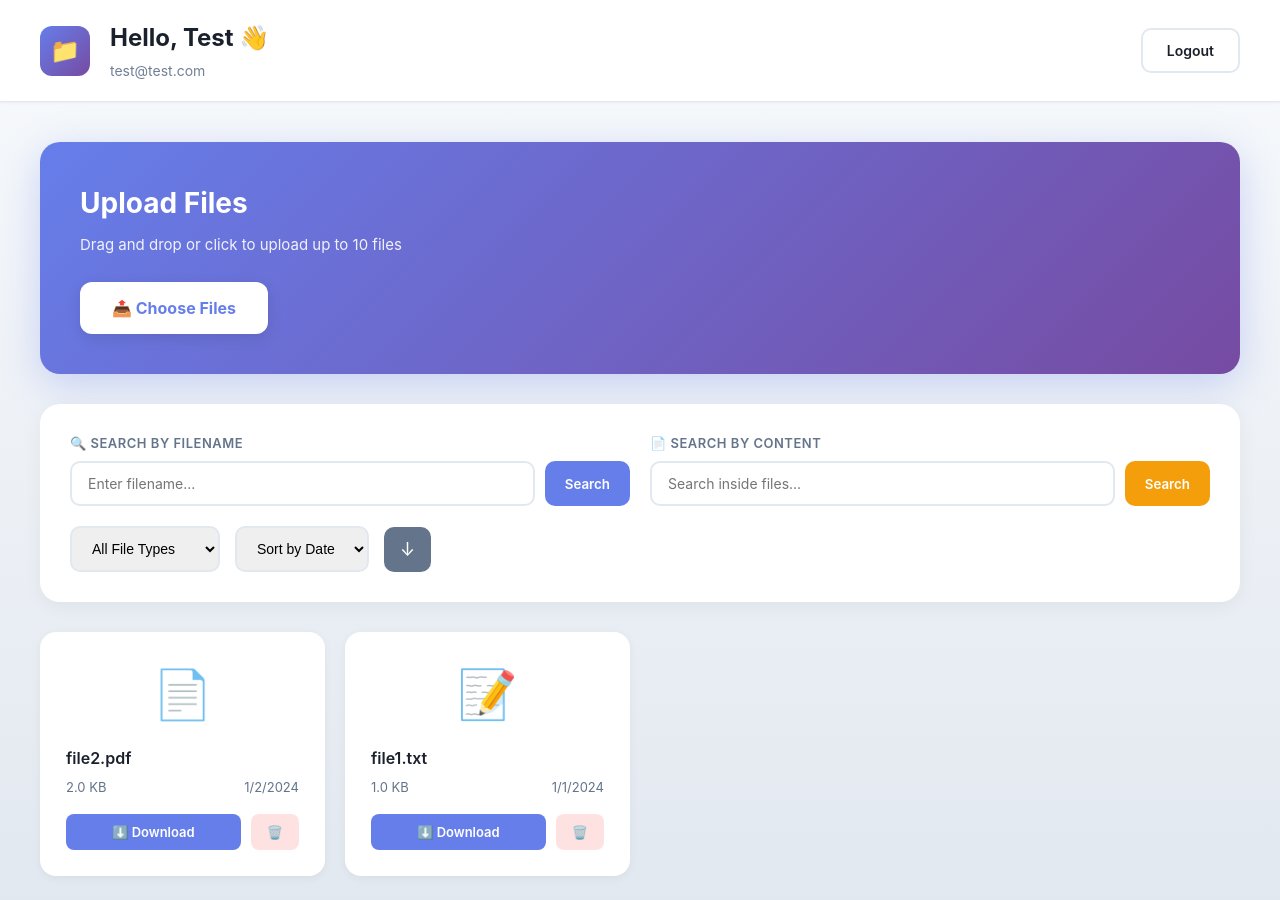
Scenario: Dashboard › File Operations › deletes file after confirmation
Expected: the heading "file1.txt" is shown, [371,748,427,768]
Step 1. Click the button "🗑️" below "2.0" → (275, 832), box [251,814,299,850]
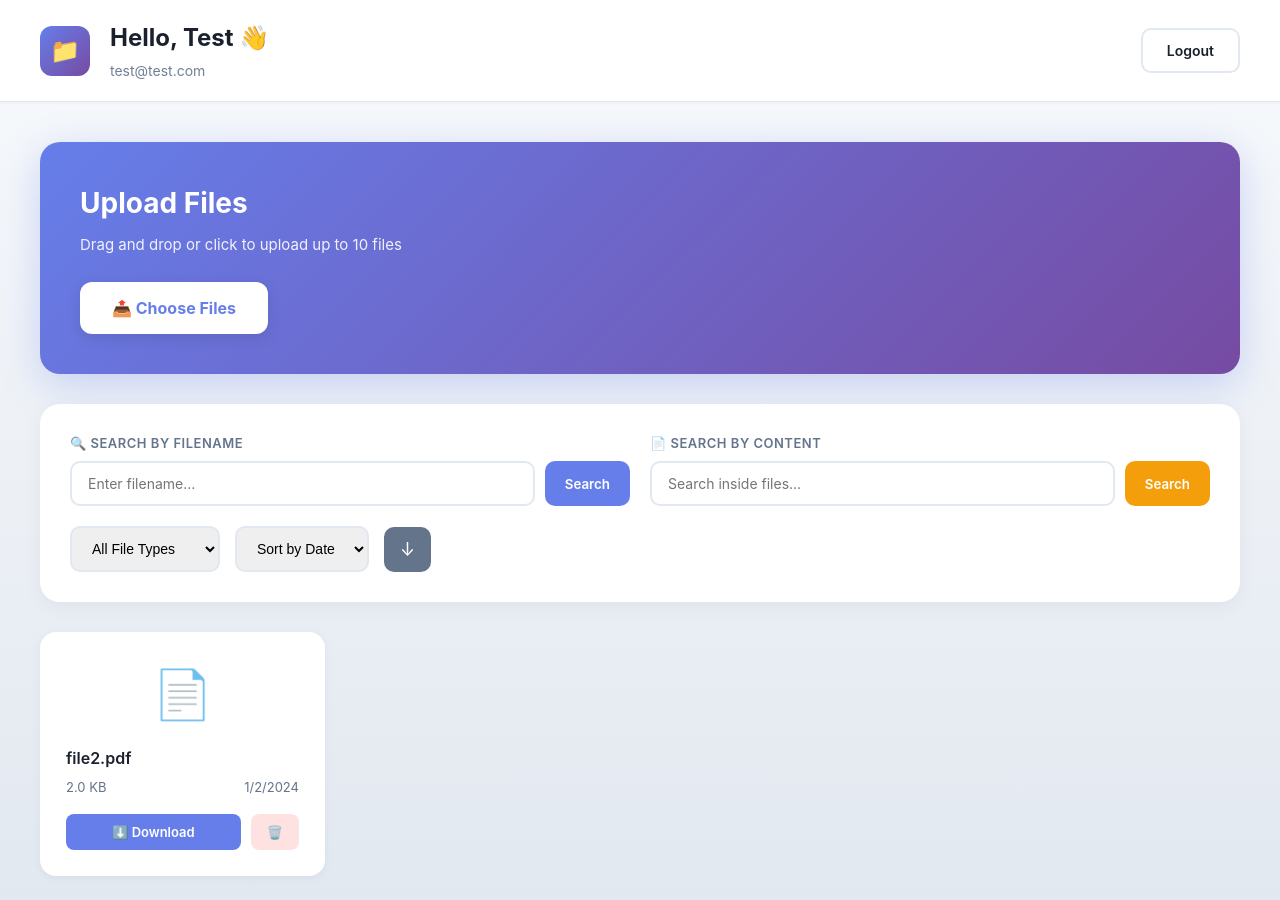
Expected: the heading "file2.pdf" is shown, [66,748,131,768]
Result: the heading "file1.txt" is gone
